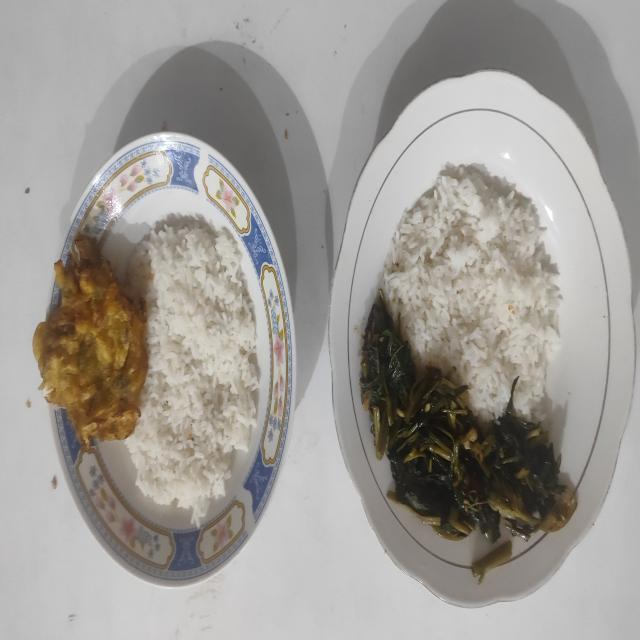nasi_putih: (382, 166, 562, 422), (126, 214, 260, 520)
tumis_kangkung: (360, 292, 577, 542)
